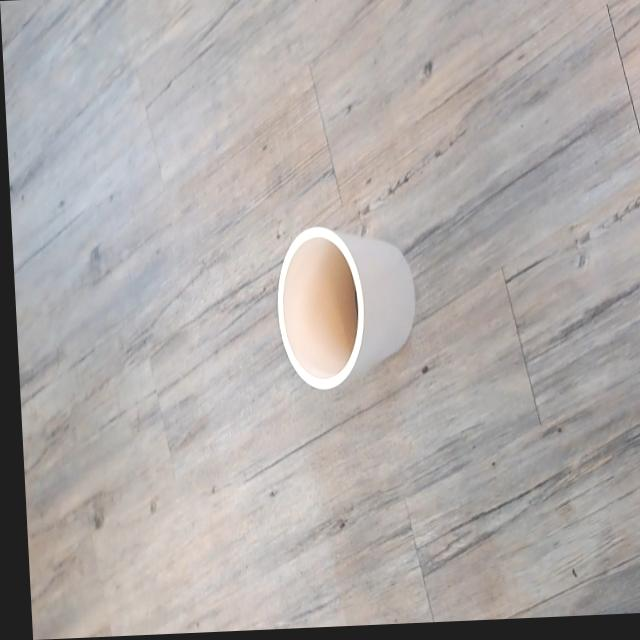CORAL: (247, 198, 442, 422)
